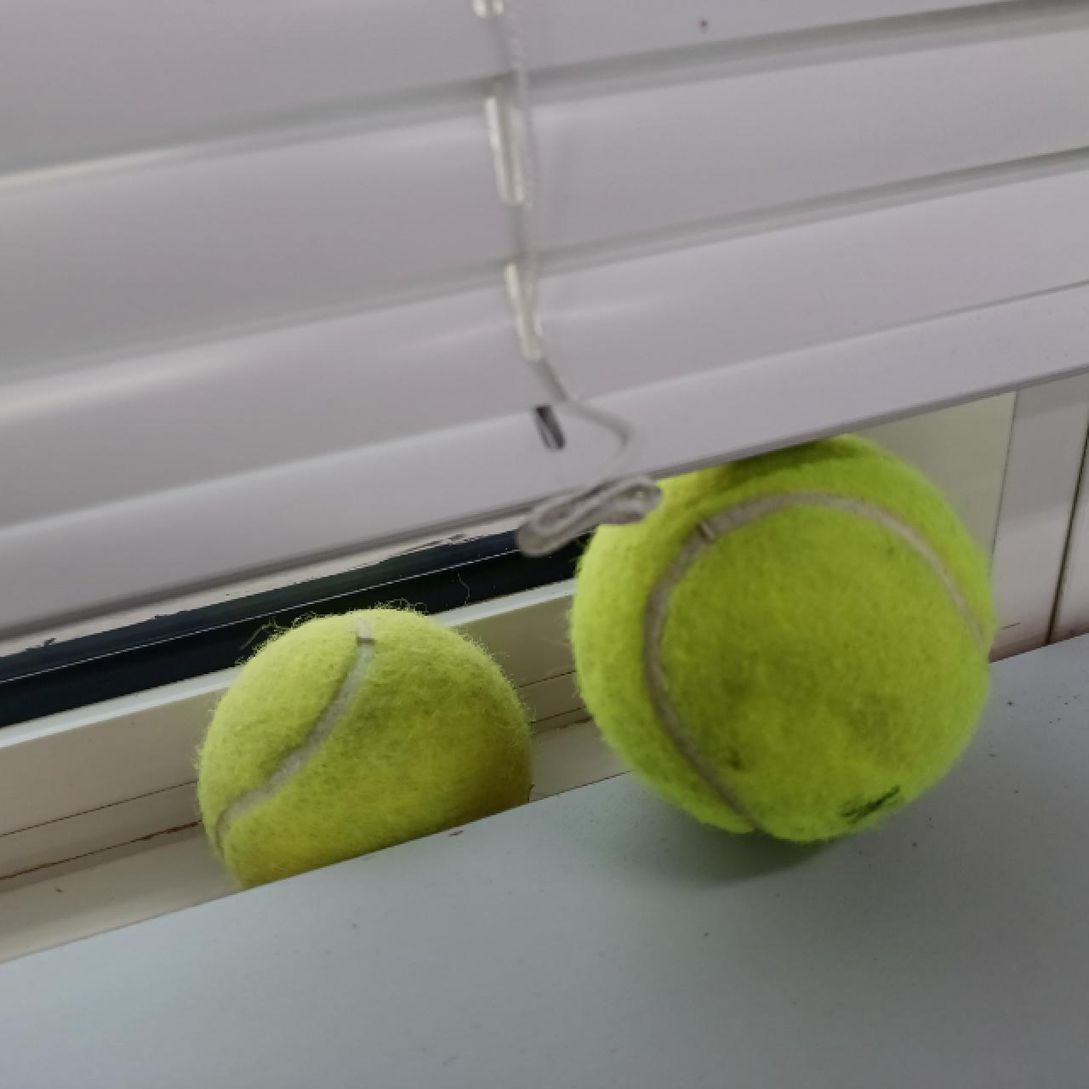tennis-ball: (571, 422, 998, 846), (200, 606, 538, 914)
